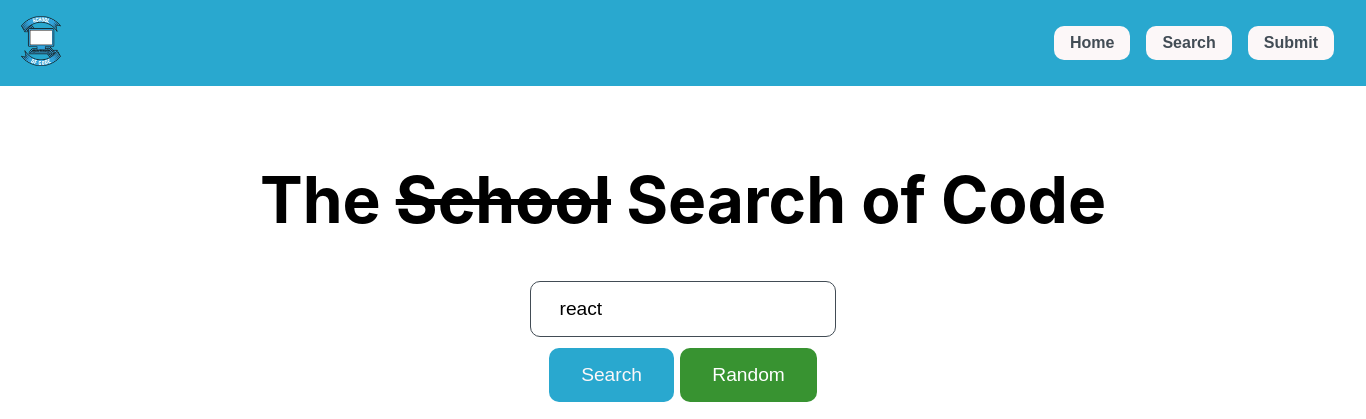
Test: Typical user journey through our website › Select the text input, type in banana and check it is updated
Replace the text in the field with id "search-bar" with "banana" at coordinates (684, 309), box [530,281,837,337]
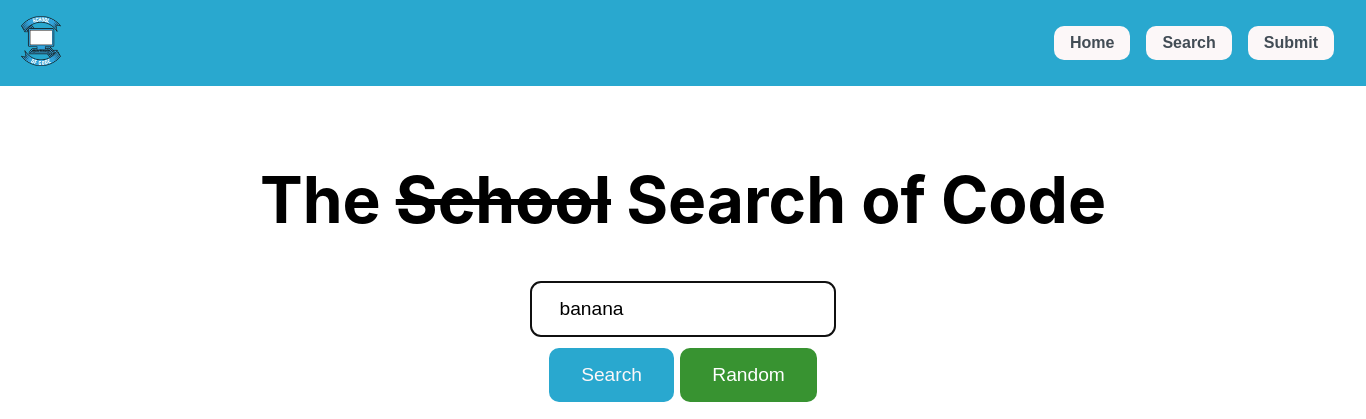
Check: the field with id "search-bar" holds "banana", box [530,281,837,337]
